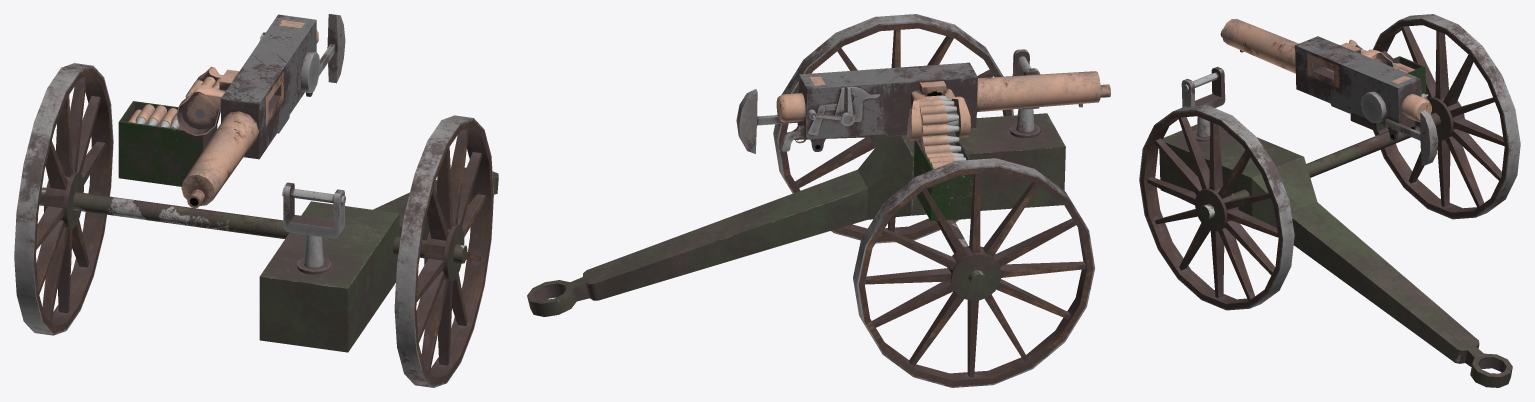
The model's file is cannon.obj.
The picture shows the model from 3 angles, left to right: view 1: azimuth 30°, elevation 25°; view 2: azimuth 150°, elevation 25°; view 3: azimuth 270°, elevation 25°; orthographic projection. The views are drawn at different scales.
Parts seen in each view (by area): view 1: QF1_Cannon_Wheels, QF1_Cannon_Gun, QF1_Cannon; view 2: QF1_Cannon_Wheels, QF1_Cannon, QF1_Cannon_Gun; view 3: QF1_Cannon_Wheels, QF1_Cannon, QF1_Cannon_Gun.
Part boxes in pixels (left/top/right/bottom): QF1_Cannon_Wheels: left=14, top=63, right=493, bottom=387; QF1_Cannon_Gun: left=118, top=14, right=345, bottom=208; QF1_Cannon: left=259, top=167, right=498, bottom=352; QF1_Cannon_Wheels: left=773, top=14, right=1095, bottom=387; QF1_Cannon: left=527, top=49, right=1065, bottom=316; QF1_Cannon_Gun: left=736, top=62, right=1110, bottom=221; QF1_Cannon_Wheels: left=1139, top=14, right=1520, bottom=310; QF1_Cannon: left=1159, top=66, right=1512, bottom=387; QF1_Cannon_Gun: left=1220, top=18, right=1438, bottom=165.
Size of the model in its own units: 30.9 by 14.43 by 23.67.
